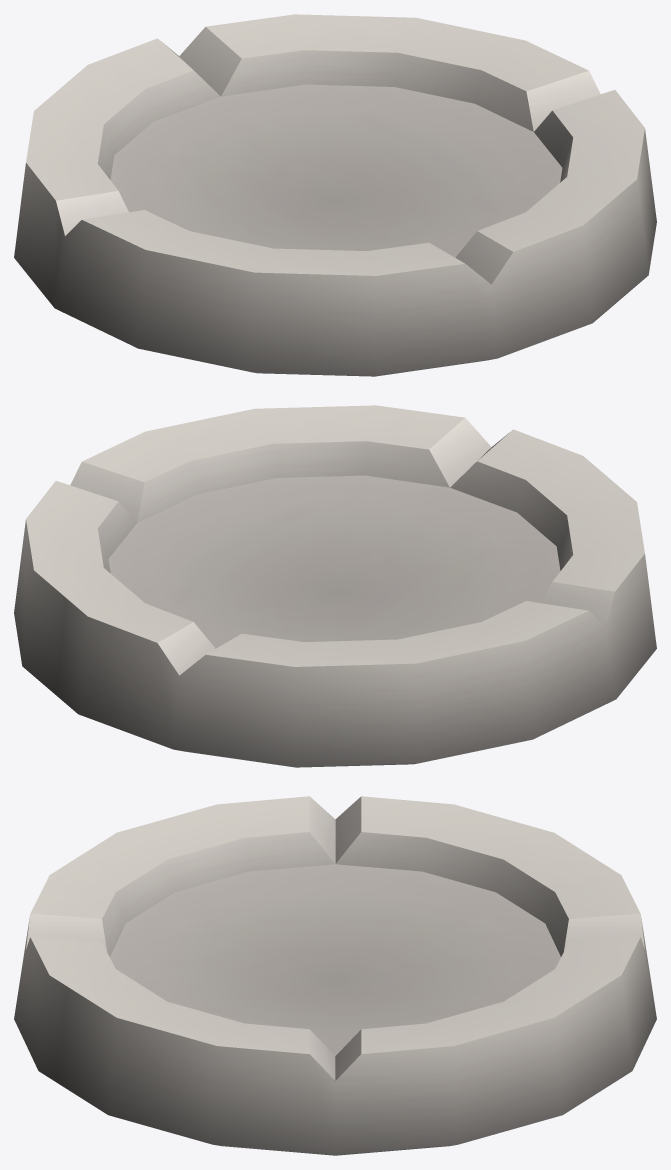
Rendered from Ashtray.fbx.
3 renders of one model, top to bottom at view 1: azimuth 30°, elevation 25°; view 2: azimuth 150°, elevation 25°; view 3: azimuth 270°, elevation 25°, orthographic.
Visible parts, largest first — view 1: Ashtray; view 2: Ashtray; view 3: Ashtray.
Boxes of the visible parts, x1,y1,x2,y2 form: Ashtray: (14, 14, 656, 376); Ashtray: (14, 405, 656, 767); Ashtray: (14, 796, 656, 1155).
Bounding box in the file's own units: 18.29 × 3.27 × 18.29.
